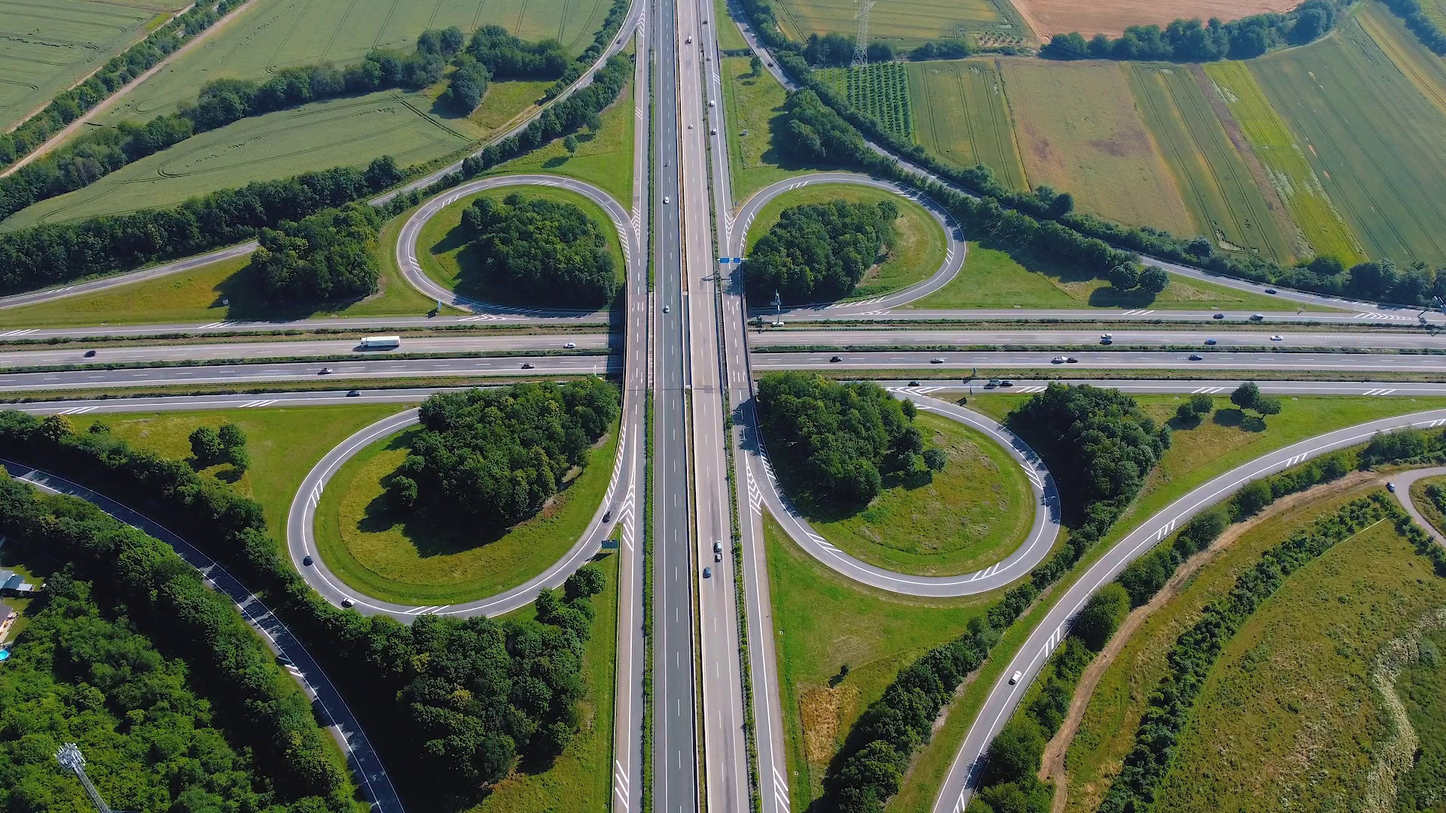Vehicle: (362, 338, 401, 346), (713, 540, 723, 562), (1011, 670, 1022, 684), (317, 367, 332, 375), (602, 510, 612, 522), (1050, 356, 1064, 364), (1385, 482, 1395, 493), (929, 357, 944, 364), (304, 556, 314, 566), (344, 597, 355, 606), (1100, 337, 1112, 345), (563, 342, 576, 349), (1248, 314, 1263, 320), (1189, 355, 1204, 361), (346, 391, 361, 397), (1265, 288, 1277, 295), (521, 363, 535, 369), (1000, 381, 1014, 387), (830, 356, 843, 362), (1204, 339, 1217, 345), (704, 567, 711, 578), (86, 350, 97, 357), (1066, 357, 1078, 363), (664, 305, 671, 314), (664, 194, 671, 203), (1270, 336, 1282, 341), (908, 381, 920, 386), (1213, 314, 1224, 319), (710, 99, 716, 107), (712, 127, 717, 134), (688, 36, 693, 42), (617, 39, 622, 44), (689, 124, 694, 128), (708, 56, 712, 60), (704, 20, 707, 24), (769, 63, 772, 66)
